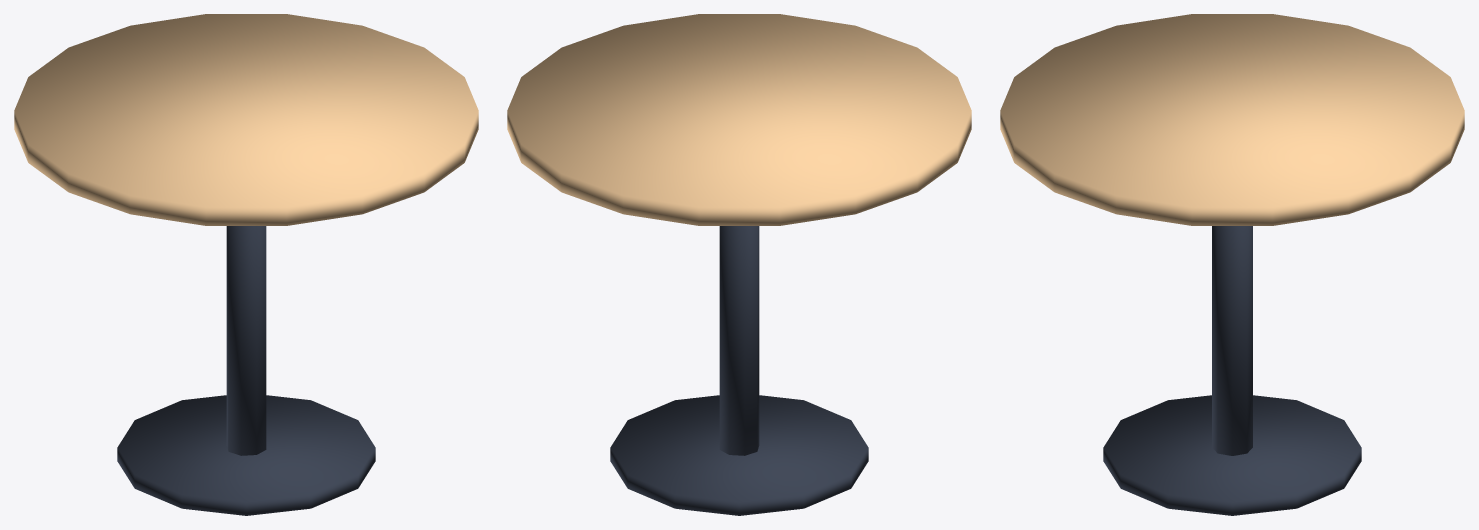
The model's file is cafe_table.glb.
3 renders of one model, left to right at view 1: azimuth 30°, elevation 25°; view 2: azimuth 150°, elevation 25°; view 3: azimuth 270°, elevation 25°, orthographic.
Parts seen in each view (by area): view 1: cafe_table, cafe_table_base, cafe_table_pole; view 2: cafe_table, cafe_table_base, cafe_table_pole; view 3: cafe_table, cafe_table_base, cafe_table_pole.
Part boxes in pixels (box(x1,y1,x2,y2)): cafe_table: box(14, 14, 478, 225); cafe_table_base: box(117, 395, 375, 515); cafe_table_pole: box(226, 226, 266, 455); cafe_table: box(507, 14, 971, 225); cafe_table_base: box(610, 395, 868, 515); cafe_table_pole: box(719, 226, 759, 455); cafe_table: box(1000, 14, 1464, 225); cafe_table_base: box(1103, 395, 1361, 515); cafe_table_pole: box(1212, 226, 1252, 455).
Size of the model in its own units: 0.8863 by 0.75 by 0.9.
